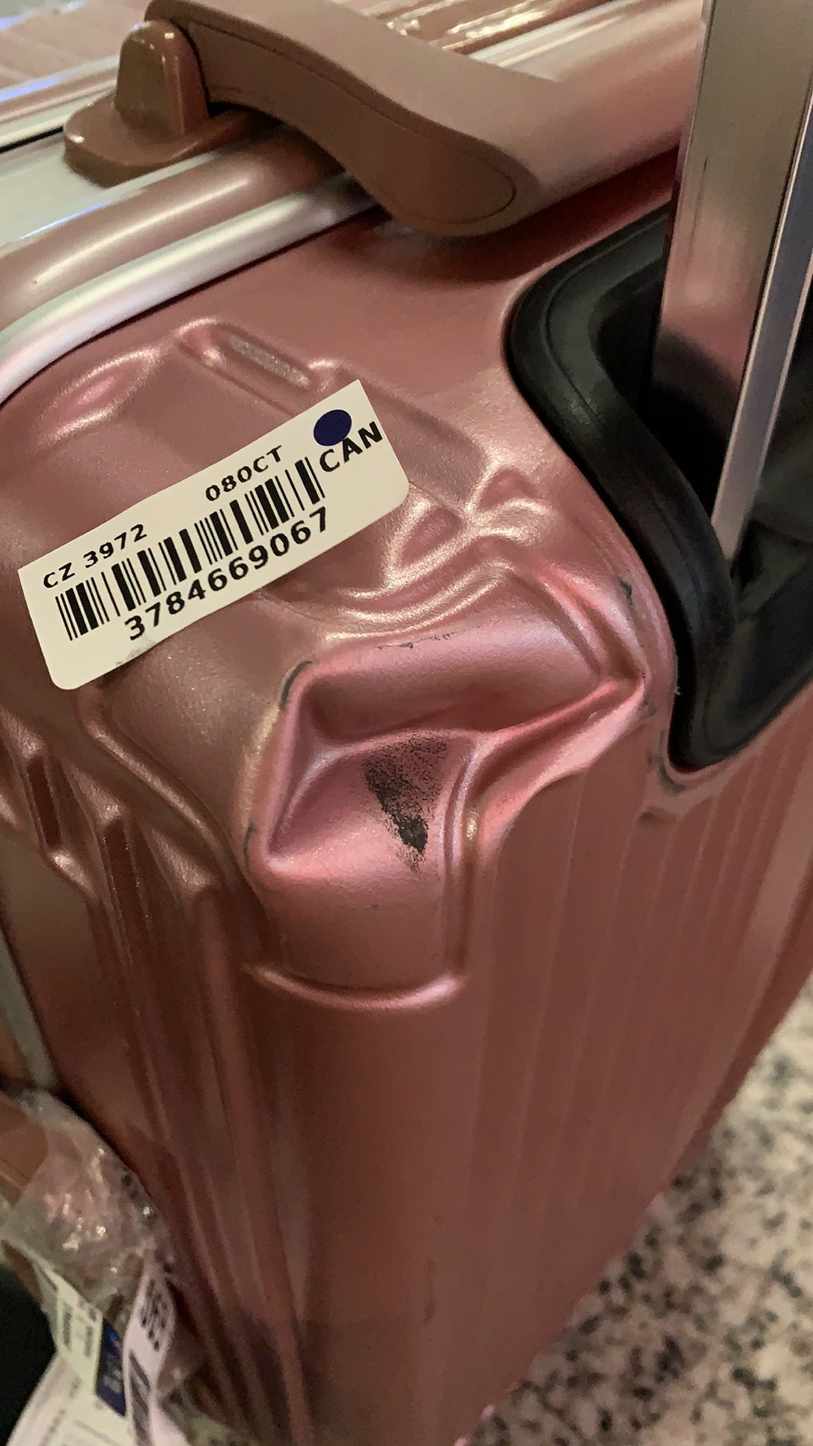rupture: (255, 658, 579, 881)
